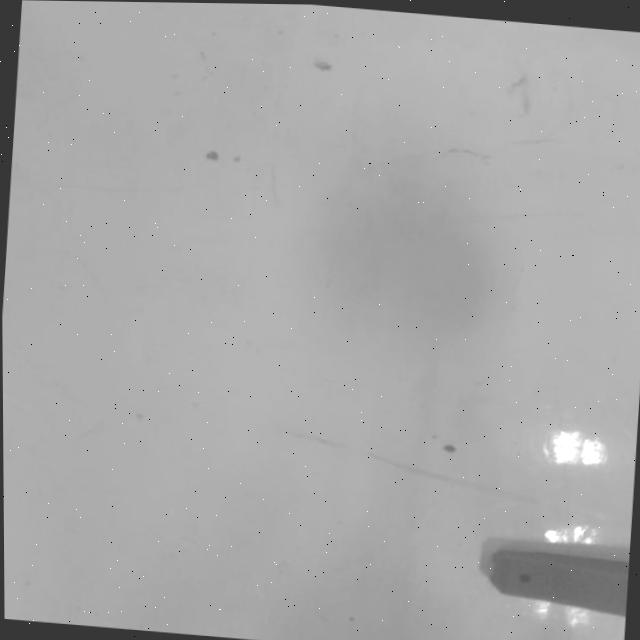grey: (482, 535, 630, 619)
head: (515, 570, 534, 583)
